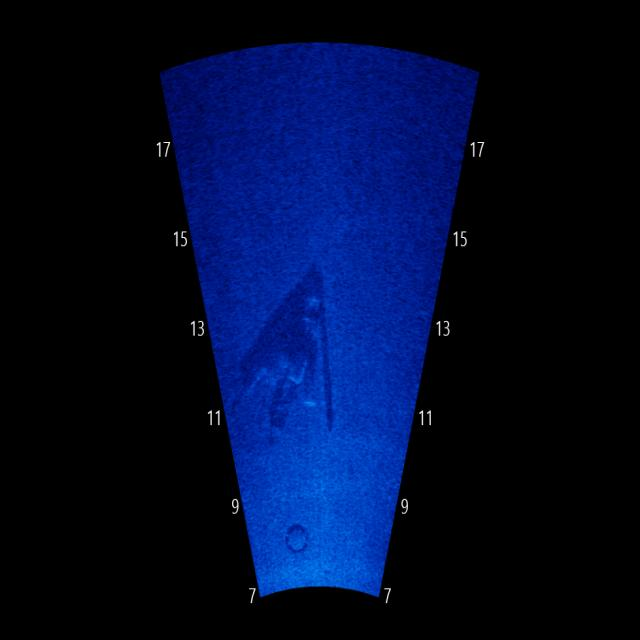triangle: (234, 268, 343, 448)
